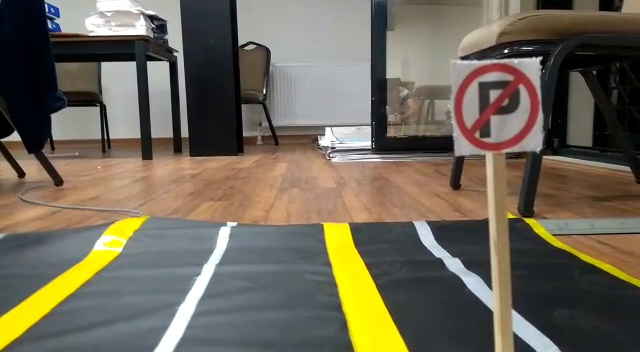park_yapilmaz: (449, 58, 541, 152)
